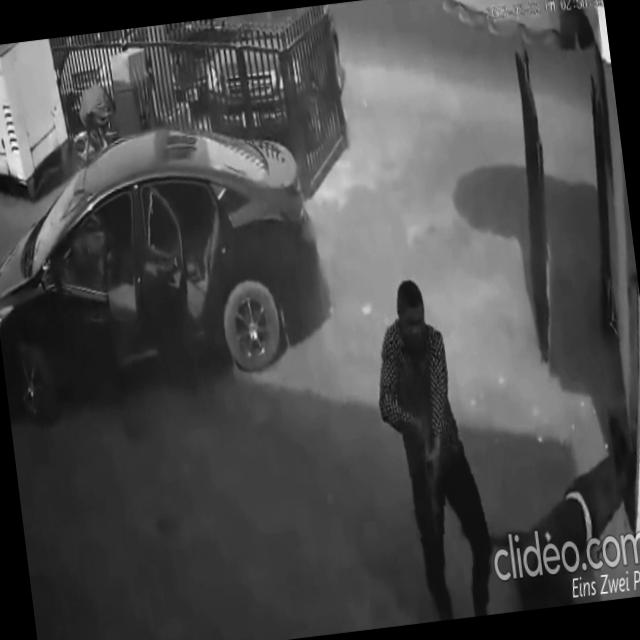gun: (415, 408, 453, 566)
person: (363, 270, 499, 622), (444, 409, 640, 618)
person with a gun: (362, 270, 501, 627)
